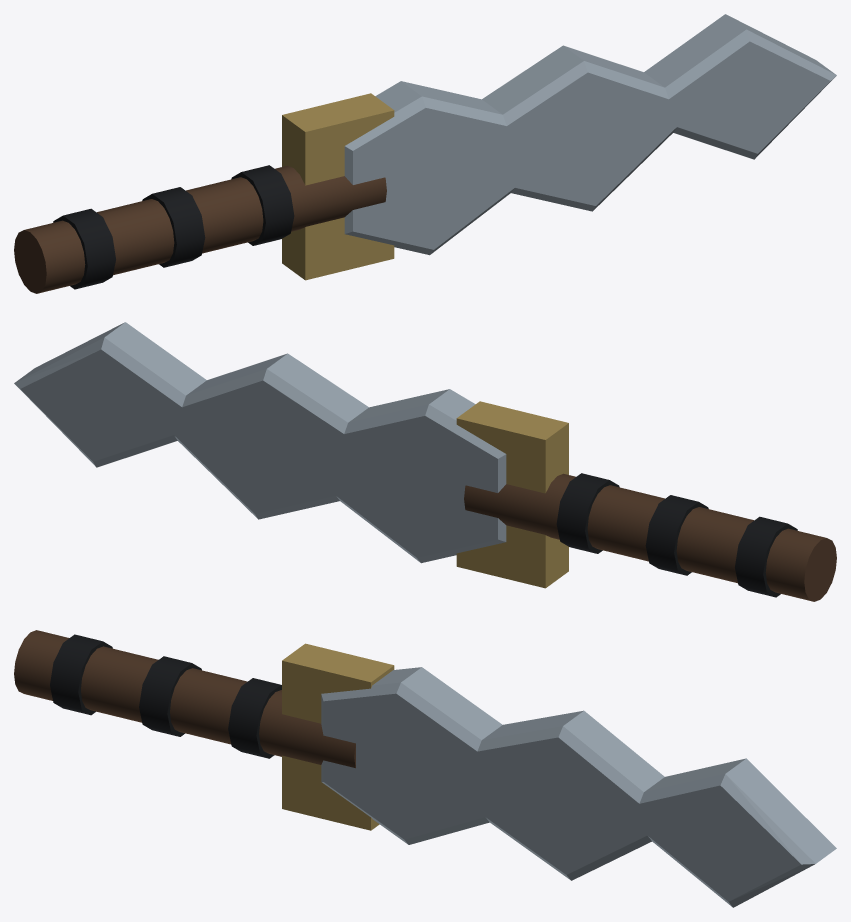
The model's file is fantasy-lab-pilgrim-kris-v1.glb.
3 renders of one model, top to bottom at view 1: azimuth 30°, elevation 25°; view 2: azimuth 150°, elevation 25°; view 3: azimuth 330°, elevation 25°, orthographic.
Parts seen in each view (by area): view 1: Pilgrim Kris; view 2: Pilgrim Kris; view 3: Pilgrim Kris.
Part boxes in pixels (x1,y1,x2,y2): Pilgrim Kris: (14, 14, 836, 293); Pilgrim Kris: (14, 322, 836, 601); Pilgrim Kris: (14, 630, 836, 907).
Size of the model in its own units: 1.97 by 0.3792 by 0.1624.
